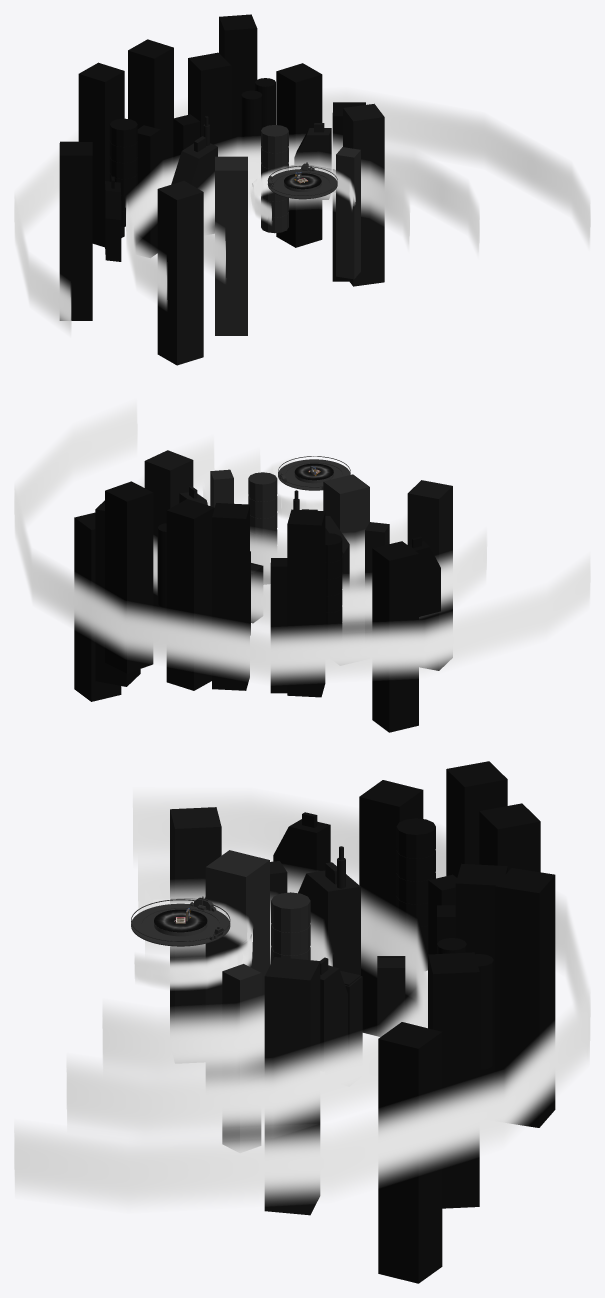
File: menu1.glb
The picture shows the model from 3 angles, top to bottom: view 1: azimuth 30°, elevation 25°; view 2: azimuth 150°, elevation 25°; view 3: azimuth 270°, elevation 25°; orthographic projection. The views are drawn at different scales.
Parts seen in each view (by area): view 1: Cylinder.011, Cylinder.008, Cube.034, Cylinder.007, Cube.041, Cube.036, Cube.047, Cube.044, Cube.033, Cube.046, Cube.045, Cube.048 (+15 smaller); view 2: Cylinder.011, Cube.048, Cube.041, Cube.045, Cylinder.008, Cube.047, Cube.046, Cube.034, Cylinder.007, Cube.042, Cube.036, Cube.033 (+13 smaller); view 3: Cylinder.011, Cylinder.008, Cylinder.007, Cube.042, Cube.048, Cube.033, Cube.044, Cube.041, Cube.036, Cube.034, Cube.027, Cube.047 (+15 smaller).
Part boxes in pixels (x1,y1,x2,y2): Cylinder.011: [14, 89, 590, 335]; Cylinder.008: [125, 135, 479, 308]; Cube.034: [157, 181, 203, 365]; Cylinder.007: [200, 154, 410, 281]; Cube.041: [59, 141, 92, 320]; Cube.036: [215, 156, 247, 335]; Cube.047: [78, 62, 124, 247]; Cube.044: [276, 63, 322, 247]; Cube.033: [343, 103, 384, 286]; Cube.046: [128, 39, 173, 176]; Cube.045: [188, 52, 231, 233]; Cube.048: [219, 14, 257, 184]; Cylinder.011: [14, 400, 590, 683]; Cube.048: [105, 481, 153, 673]; Cube.041: [372, 541, 418, 732]; Cube.045: [166, 499, 214, 690]; Cylinder.008: [137, 436, 487, 629]; Cube.047: [287, 509, 325, 697]; Cube.046: [212, 503, 249, 690]; Cube.034: [407, 480, 452, 670]; Cylinder.007: [202, 449, 407, 583]; Cube.042: [74, 512, 121, 701]; Cube.036: [323, 474, 369, 638]; Cube.033: [144, 450, 193, 622]; Cylinder.011: [14, 790, 590, 1210]; Cylinder.008: [66, 856, 427, 1139]; Cylinder.007: [102, 882, 332, 1077]; Cube.042: [378, 1022, 442, 1283]; Cube.048: [495, 868, 555, 1127]; Cube.033: [264, 957, 320, 1215]; Cube.044: [428, 952, 479, 1208]; Cube.041: [359, 780, 423, 1036]; Cube.036: [205, 850, 269, 1080]; Cube.034: [170, 807, 221, 1027]; Cube.027: [298, 846, 360, 975]; Cube.047: [446, 761, 507, 877].
Size of the model in its own units: 41.38 by 18.96 by 29.1.
17 materials, 10 textured.
